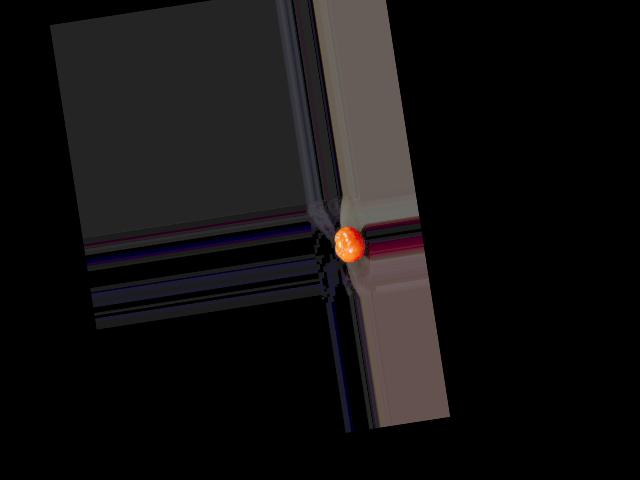tomato: (332, 224, 368, 265)
